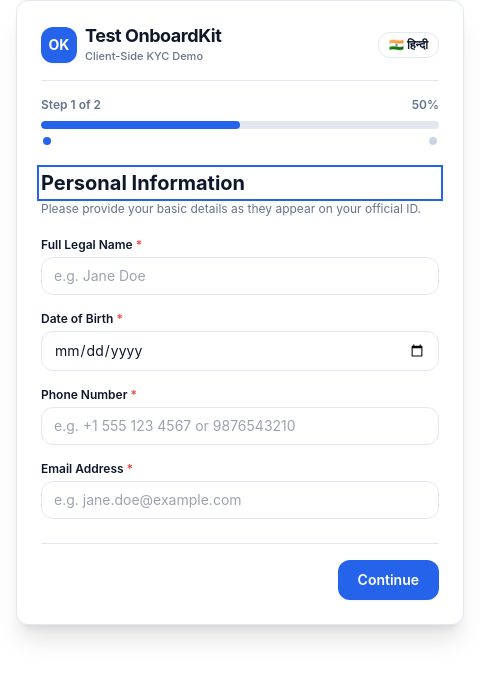
Test case: Phase 2: Flow and Step Navigation › adheres to custom steps defined in config
Check: the text "Step 1 of 2" is shown, box [41,97,101,113]
Note: Fill details
Type "Sam Smith" into the field labelled "Full Legal Name *" at x=240, y=276, box [41,257,439,295]
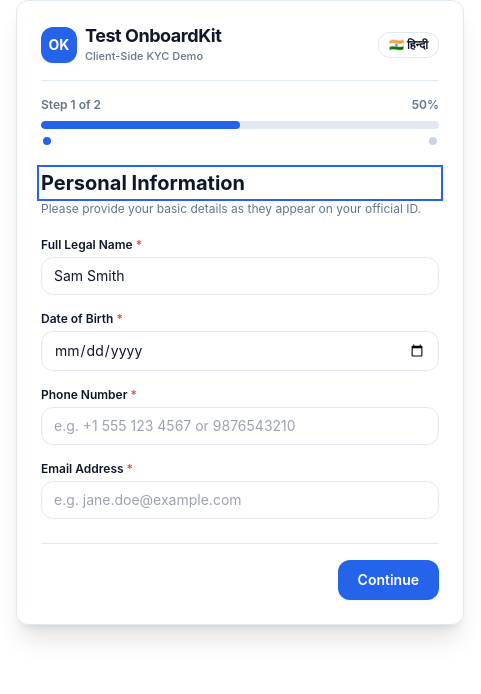
Type "1990-01-01" into the date field labelled "Date of Birth *" at x=240, y=351, box [41,331,439,371]
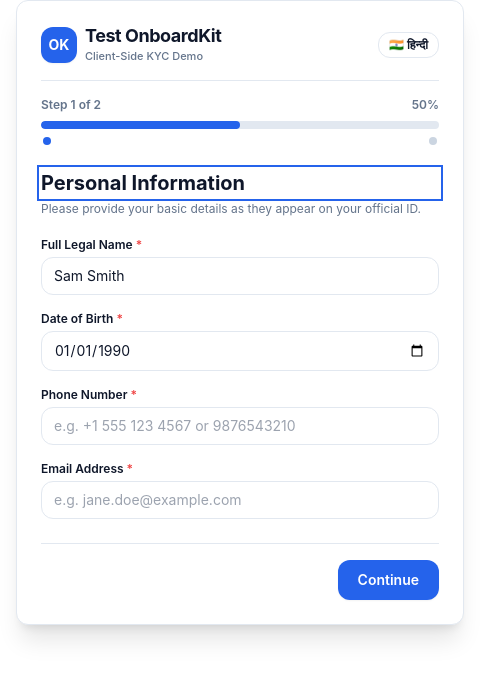
Type "1234567890" into the field labelled "Phone Number *" at x=240, y=426, box [41,407,439,445]
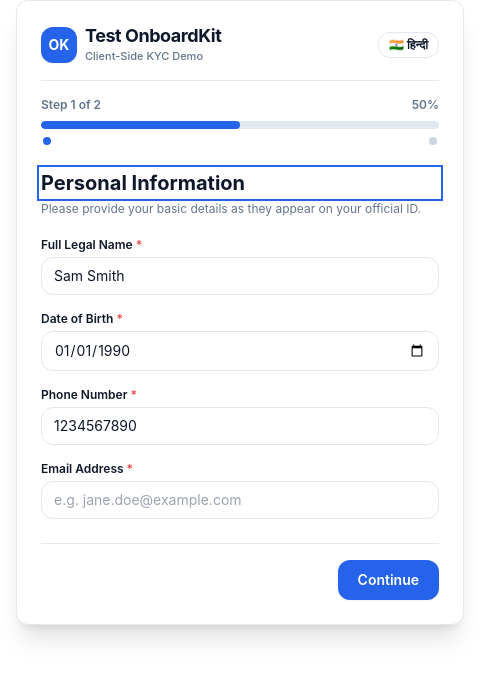
Type "sam@example.com" into the field labelled "Email Address *" at x=240, y=500, box [41,481,439,519]
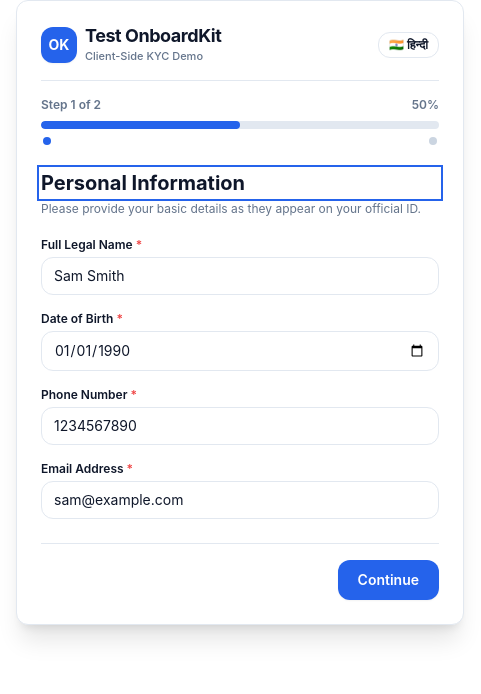
Click the button "Continue" at x=388, y=580, box [338,560,439,600]
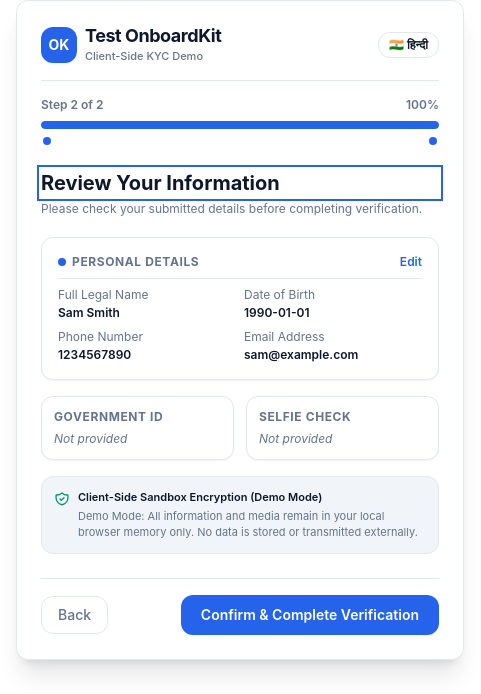
Check: the heading "Review Your Information" is shown, box [41,171,280,195]
Check: the text "Sam Smith" is shown, box [58,305,120,320]
Check: the text "sam@example.com" is shown, box [244,347,358,362]
